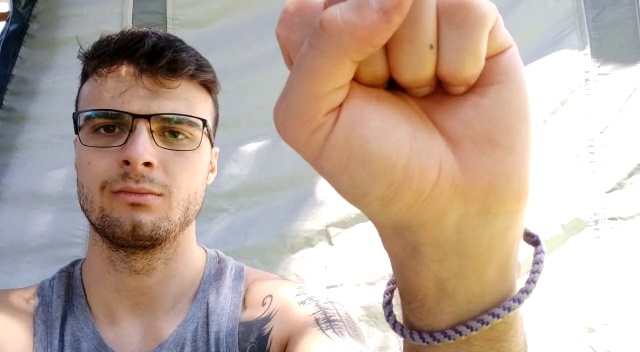Fist: (272, 1, 549, 227)
